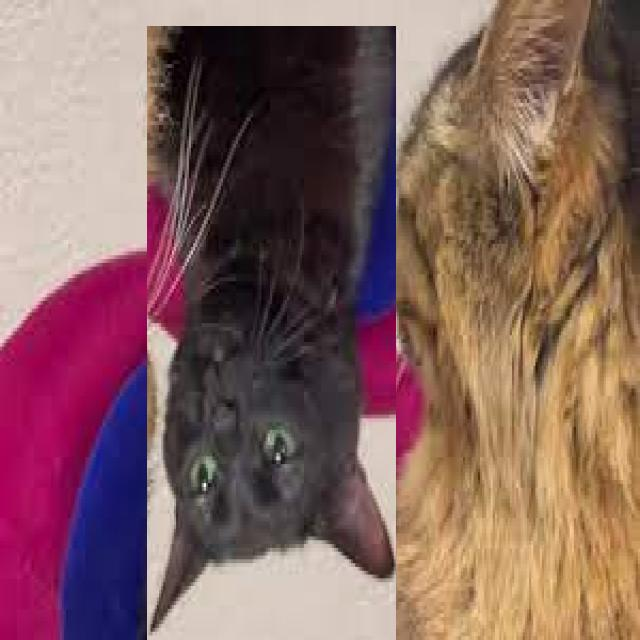cat: (147, 26, 396, 640)
